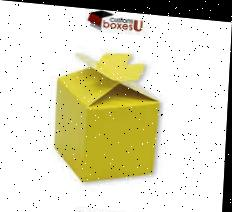cube: (55, 70, 161, 185)
